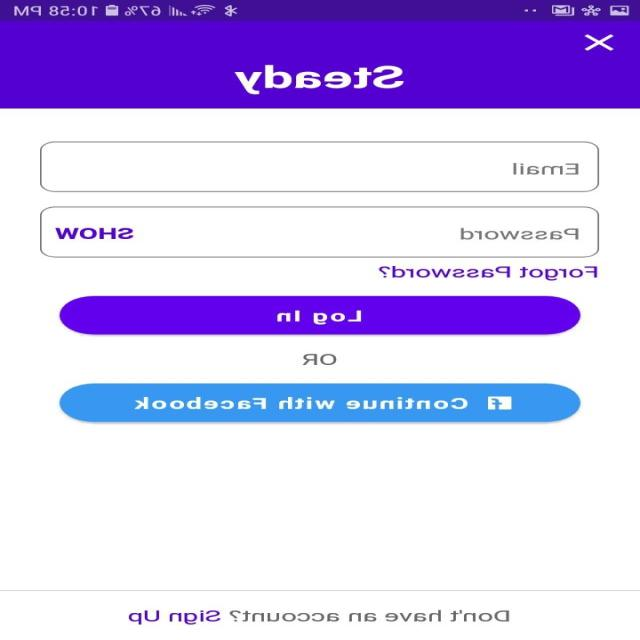EditText: (40, 206, 599, 257), (41, 141, 600, 192)
Icon: (584, 34, 614, 51)
Text: (128, 610, 510, 624), (234, 64, 404, 94), (378, 266, 598, 280), (461, 228, 578, 240), (56, 227, 134, 239), (513, 162, 579, 175), (302, 354, 337, 365)
TextButton: (59, 295, 582, 335), (59, 383, 582, 422)
